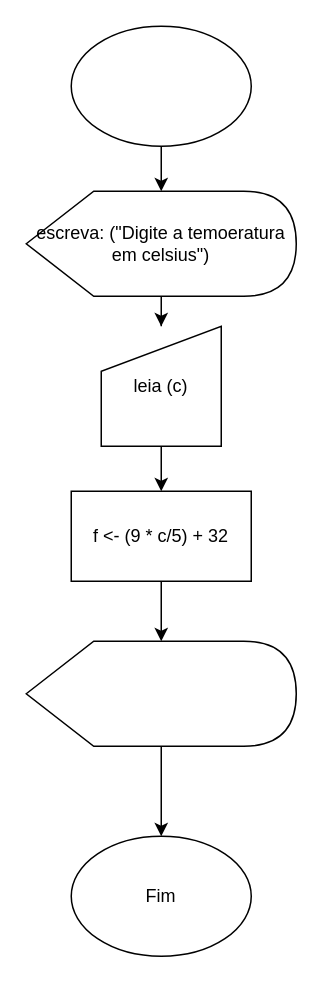
Some shapes in this 323 by 983 pixel diagram are drawn without their labels. The shapes that lost their labels are listed below. From the top down, each one's box as (x1, y1, x2, y2) in pixels, then its label:
(70, 25, 251, 146): Início
(25, 640, 296, 746): escreva: ("A temperatura em farenheit é: ", f)
